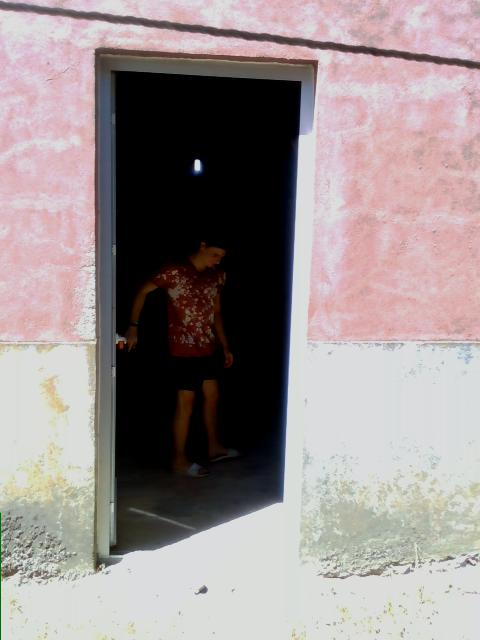open_door: (95, 47, 318, 579)
